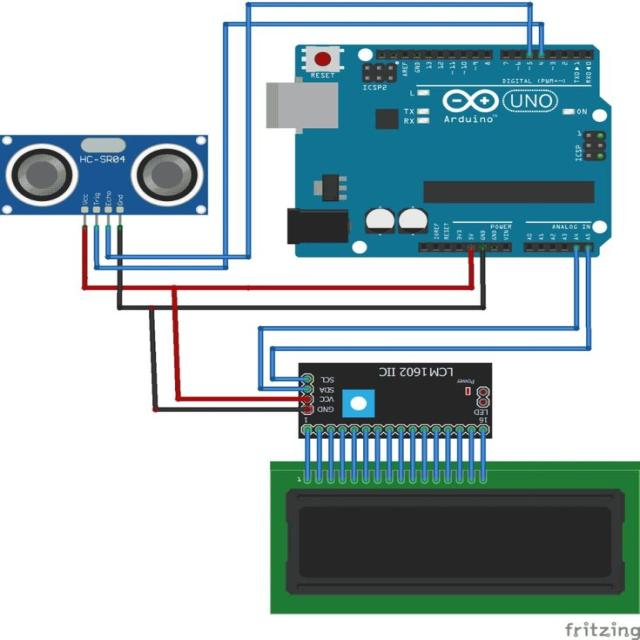Arduino: (256, 36, 625, 266)
Ultrasonic Sensor: (0, 127, 214, 226)
